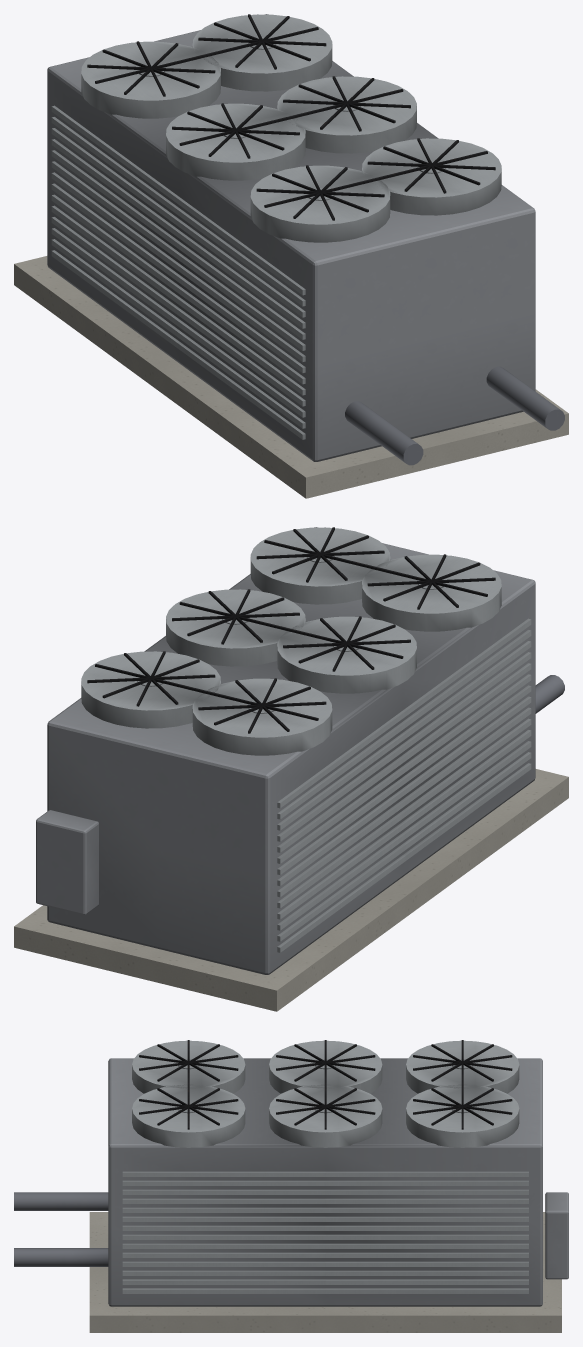
Rendered from roof_chiller.glb.
3 renders of one model, top to bottom at view 1: azimuth 30°, elevation 25°; view 2: azimuth 150°, elevation 25°; view 3: azimuth 270°, elevation 25°, orthographic. The views are drawn at different scales.
Visible parts, largest first — view 1: roof_chiller_powder_grey, roof_chiller_galvanised, plinth, roof_chiller_cast_iron, roof_chiller_paint_grey; view 2: roof_chiller_powder_grey, roof_chiller_galvanised, plinth, roof_chiller_cast_iron, roof_chiller_paint_grey; view 3: roof_chiller_galvanised, roof_chiller_powder_grey, plinth, roof_chiller_cast_iron, roof_chiller_paint_grey.
Boxes of the visible parts, bbox=[...] form: roof_chiller_powder_grey: bbox=[47, 14, 535, 461]; roof_chiller_galvanised: bbox=[51, 14, 501, 439]; plinth: bbox=[14, 256, 568, 498]; roof_chiller_cast_iron: bbox=[87, 14, 495, 220]; roof_chiller_paint_grey: bbox=[345, 366, 564, 465]; roof_chiller_powder_grey: bbox=[36, 527, 535, 974]; roof_chiller_galvanised: bbox=[81, 527, 531, 952]; plinth: bbox=[14, 769, 568, 1011]; roof_chiller_cast_iron: bbox=[87, 527, 495, 733]; roof_chiller_paint_grey: bbox=[535, 675, 564, 713]; roof_chiller_galvanised: bbox=[122, 1040, 528, 1293]; roof_chiller_powder_grey: bbox=[108, 1058, 568, 1306]; plinth: bbox=[89, 1212, 561, 1332]; roof_chiller_cast_iron: bbox=[139, 1040, 512, 1129]; roof_chiller_paint_grey: bbox=[14, 1192, 108, 1266].
Size of what is drawn, in the model's own units: 2.6 by 2.3 by 5.88.
Materials: 6 (6 with a texture image).
